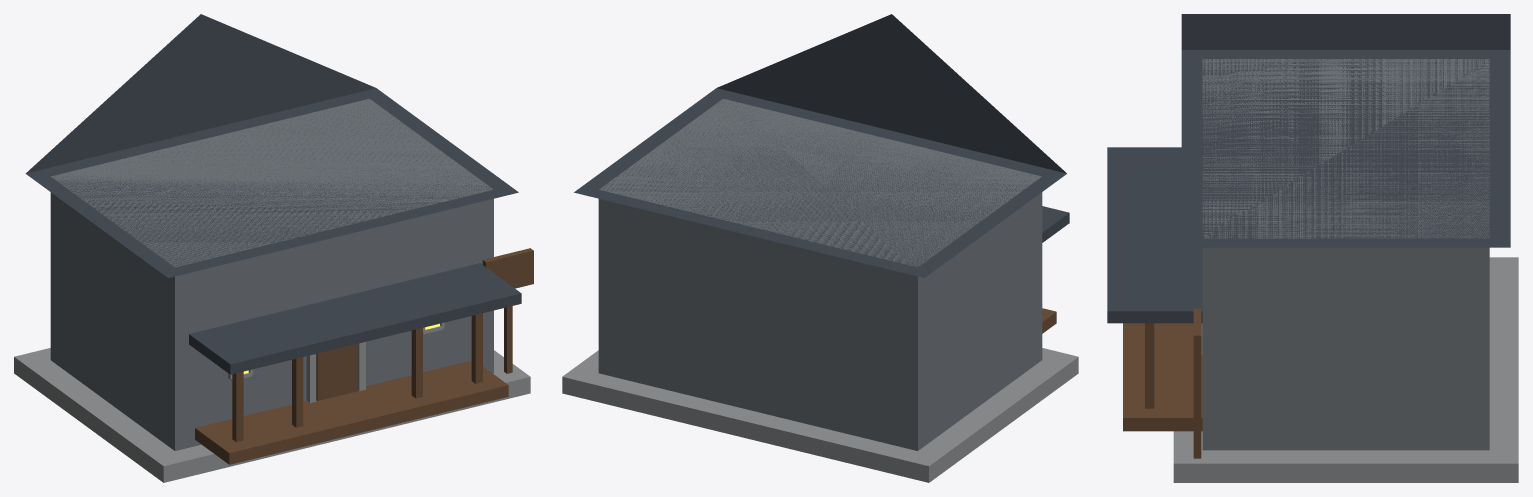
Rendered from tavern.glb.
3 views of the same model, side by side, from view 1: azimuth 30°, elevation 25°; view 2: azimuth 150°, elevation 25°; view 3: azimuth 270°, elevation 25° (orthographic). The views are drawn at different scales.
Parts seen in each view (by area): view 1: Walls, Roof, PorchRoof, Porch, Foundation, Door, Sign, PorchPost-1.5, PorchPost-3, PorchPost3, PorchPost1.5, SignPole; view 2: Walls, Roof, Foundation, PorchRoof; view 3: Walls, Roof, Foundation, PorchRoof, Porch, PorchPost3, SignPole, Sign.
Part boxes in pixels (x1=…): Walls: x1=50, y1=98, x2=493, y2=450; Roof: x1=25, y1=14, x2=518, y2=277; PorchRoof: x1=189, y1=263, x2=521, y2=374; Porch: x1=195, y1=360, x2=508, y2=464; Foundation: x1=14, y1=348, x2=530, y2=482; Door: x1=316, y1=344, x2=357, y2=400; Sign: x1=482, y1=248, x2=533, y2=288; PorchPost-1.5: x1=292, y1=357, x2=303, y2=427; PorchPost-3: x1=232, y1=371, x2=243, y2=442; PorchPost3: x1=471, y1=313, x2=482, y2=383; PorchPost1.5: x1=411, y1=328, x2=422, y2=398; SignPole: x1=504, y1=306, x2=512, y2=373; Walls: x1=598, y1=98, x2=1042, y2=450; Roof: x1=574, y1=14, x2=1066, y2=277; Foundation: x1=562, y1=348, x2=1078, y2=482; PorchRoof: x1=1042, y1=206, x2=1069, y2=242; Walls: x1=1202, y1=59, x2=1489, y2=450; Roof: x1=1181, y1=14, x2=1510, y2=247; Foundation: x1=1173, y1=257, x2=1518, y2=482; PorchRoof: x1=1107, y1=147, x2=1202, y2=323; Porch: x1=1123, y1=323, x2=1202, y2=431; PorchPost3: x1=1145, y1=323, x2=1154, y2=408; SignPole: x1=1193, y1=374, x2=1201, y2=458; Sign: x1=1193, y1=308, x2=1201, y2=374.
Bounding box in the file's own units: 9.5 × 7.6 × 7.75.
